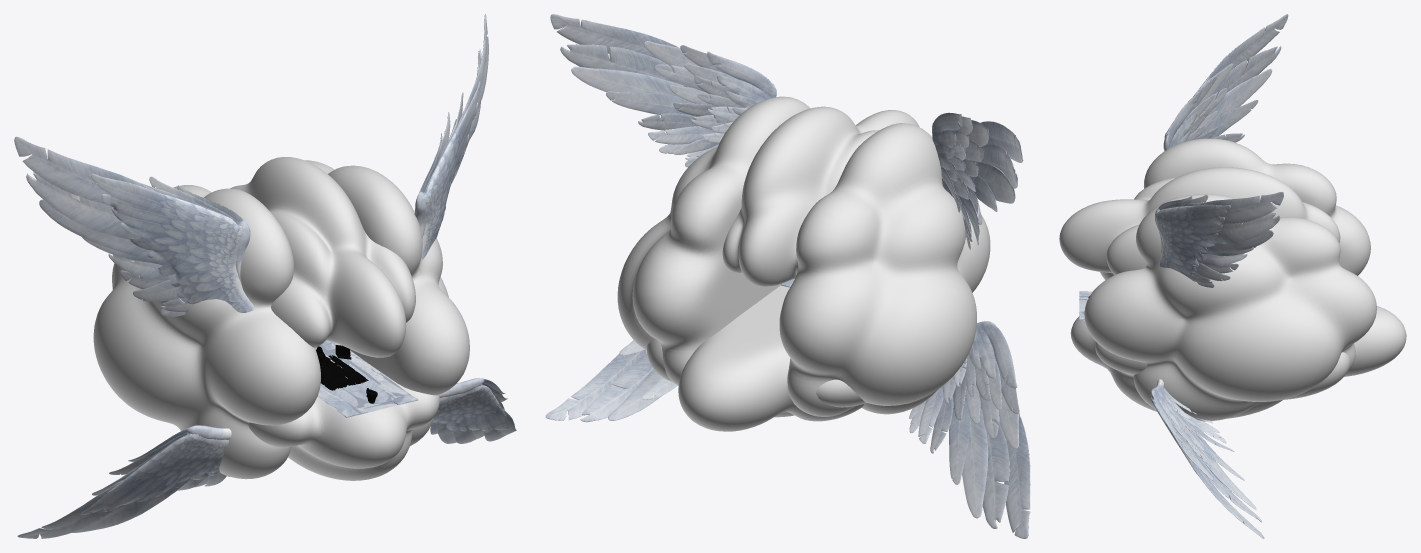
Rendered from LA NUBE DEL SEÑOR.glb.
3 views of the same model, side by side, from view 1: azimuth 30°, elevation 25°; view 2: azimuth 150°, elevation 25°; view 3: azimuth 270°, elevation 25° (orthographic). The views are drawn at different scales.
Visible parts, largest first — view 1: node_id178, node_id116, node_id172, node_id184, node_id190, node_id124, node_id132, node_id148, node_id73, node_id52; view 2: node_id178, node_id184, node_id132, node_id172, node_id124, node_id190, node_id116, node_id148; view 3: node_id184, node_id172, node_id132, node_id178, node_id116, node_id190, node_id148.
Boxes of the visible parts, x1,y1,x2,y2 form: node_id178: (93, 185, 320, 479); node_id116: (14, 136, 254, 316); node_id172: (230, 157, 415, 357); node_id184: (305, 160, 469, 445); node_id190: (248, 368, 439, 480); node_id124: (17, 425, 231, 538); node_id132: (414, 14, 488, 259); node_id148: (430, 378, 516, 443); node_id73: (315, 340, 418, 417); node_id52: (320, 355, 368, 390); node_id178: (779, 123, 990, 416); node_id184: (617, 96, 810, 385); node_id132: (550, 14, 776, 167); node_id172: (722, 106, 919, 286); node_id124: (909, 321, 1030, 538); node_id190: (646, 285, 866, 431); node_id116: (932, 112, 1023, 249); node_id148: (545, 340, 677, 422); node_id184: (1084, 194, 1376, 421); node_id172: (1059, 167, 1340, 274); node_id132: (1155, 192, 1283, 287); node_id178: (1100, 138, 1370, 280); node_id116: (1163, 14, 1288, 150); node_id190: (1070, 306, 1406, 418); node_id148: (1150, 379, 1264, 538).
Size of the model in its own units: 1.06 by 0.8543 by 0.7891.
Materials: 17 (13 with a texture image).
